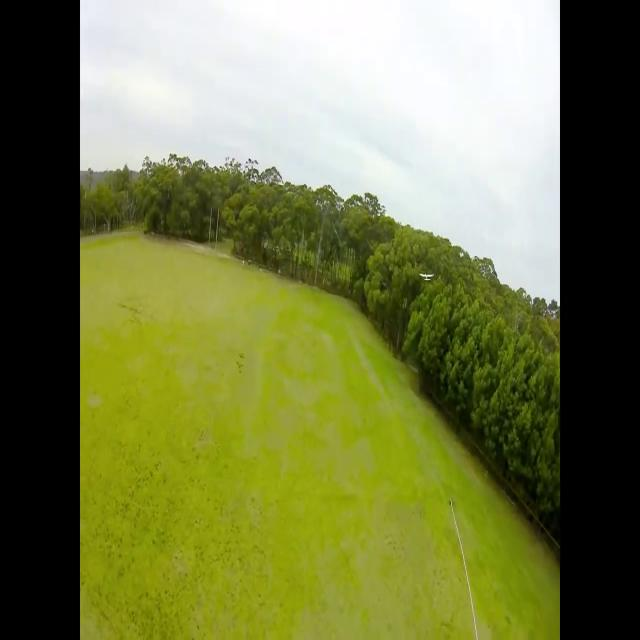iha: (424, 275, 430, 278)
